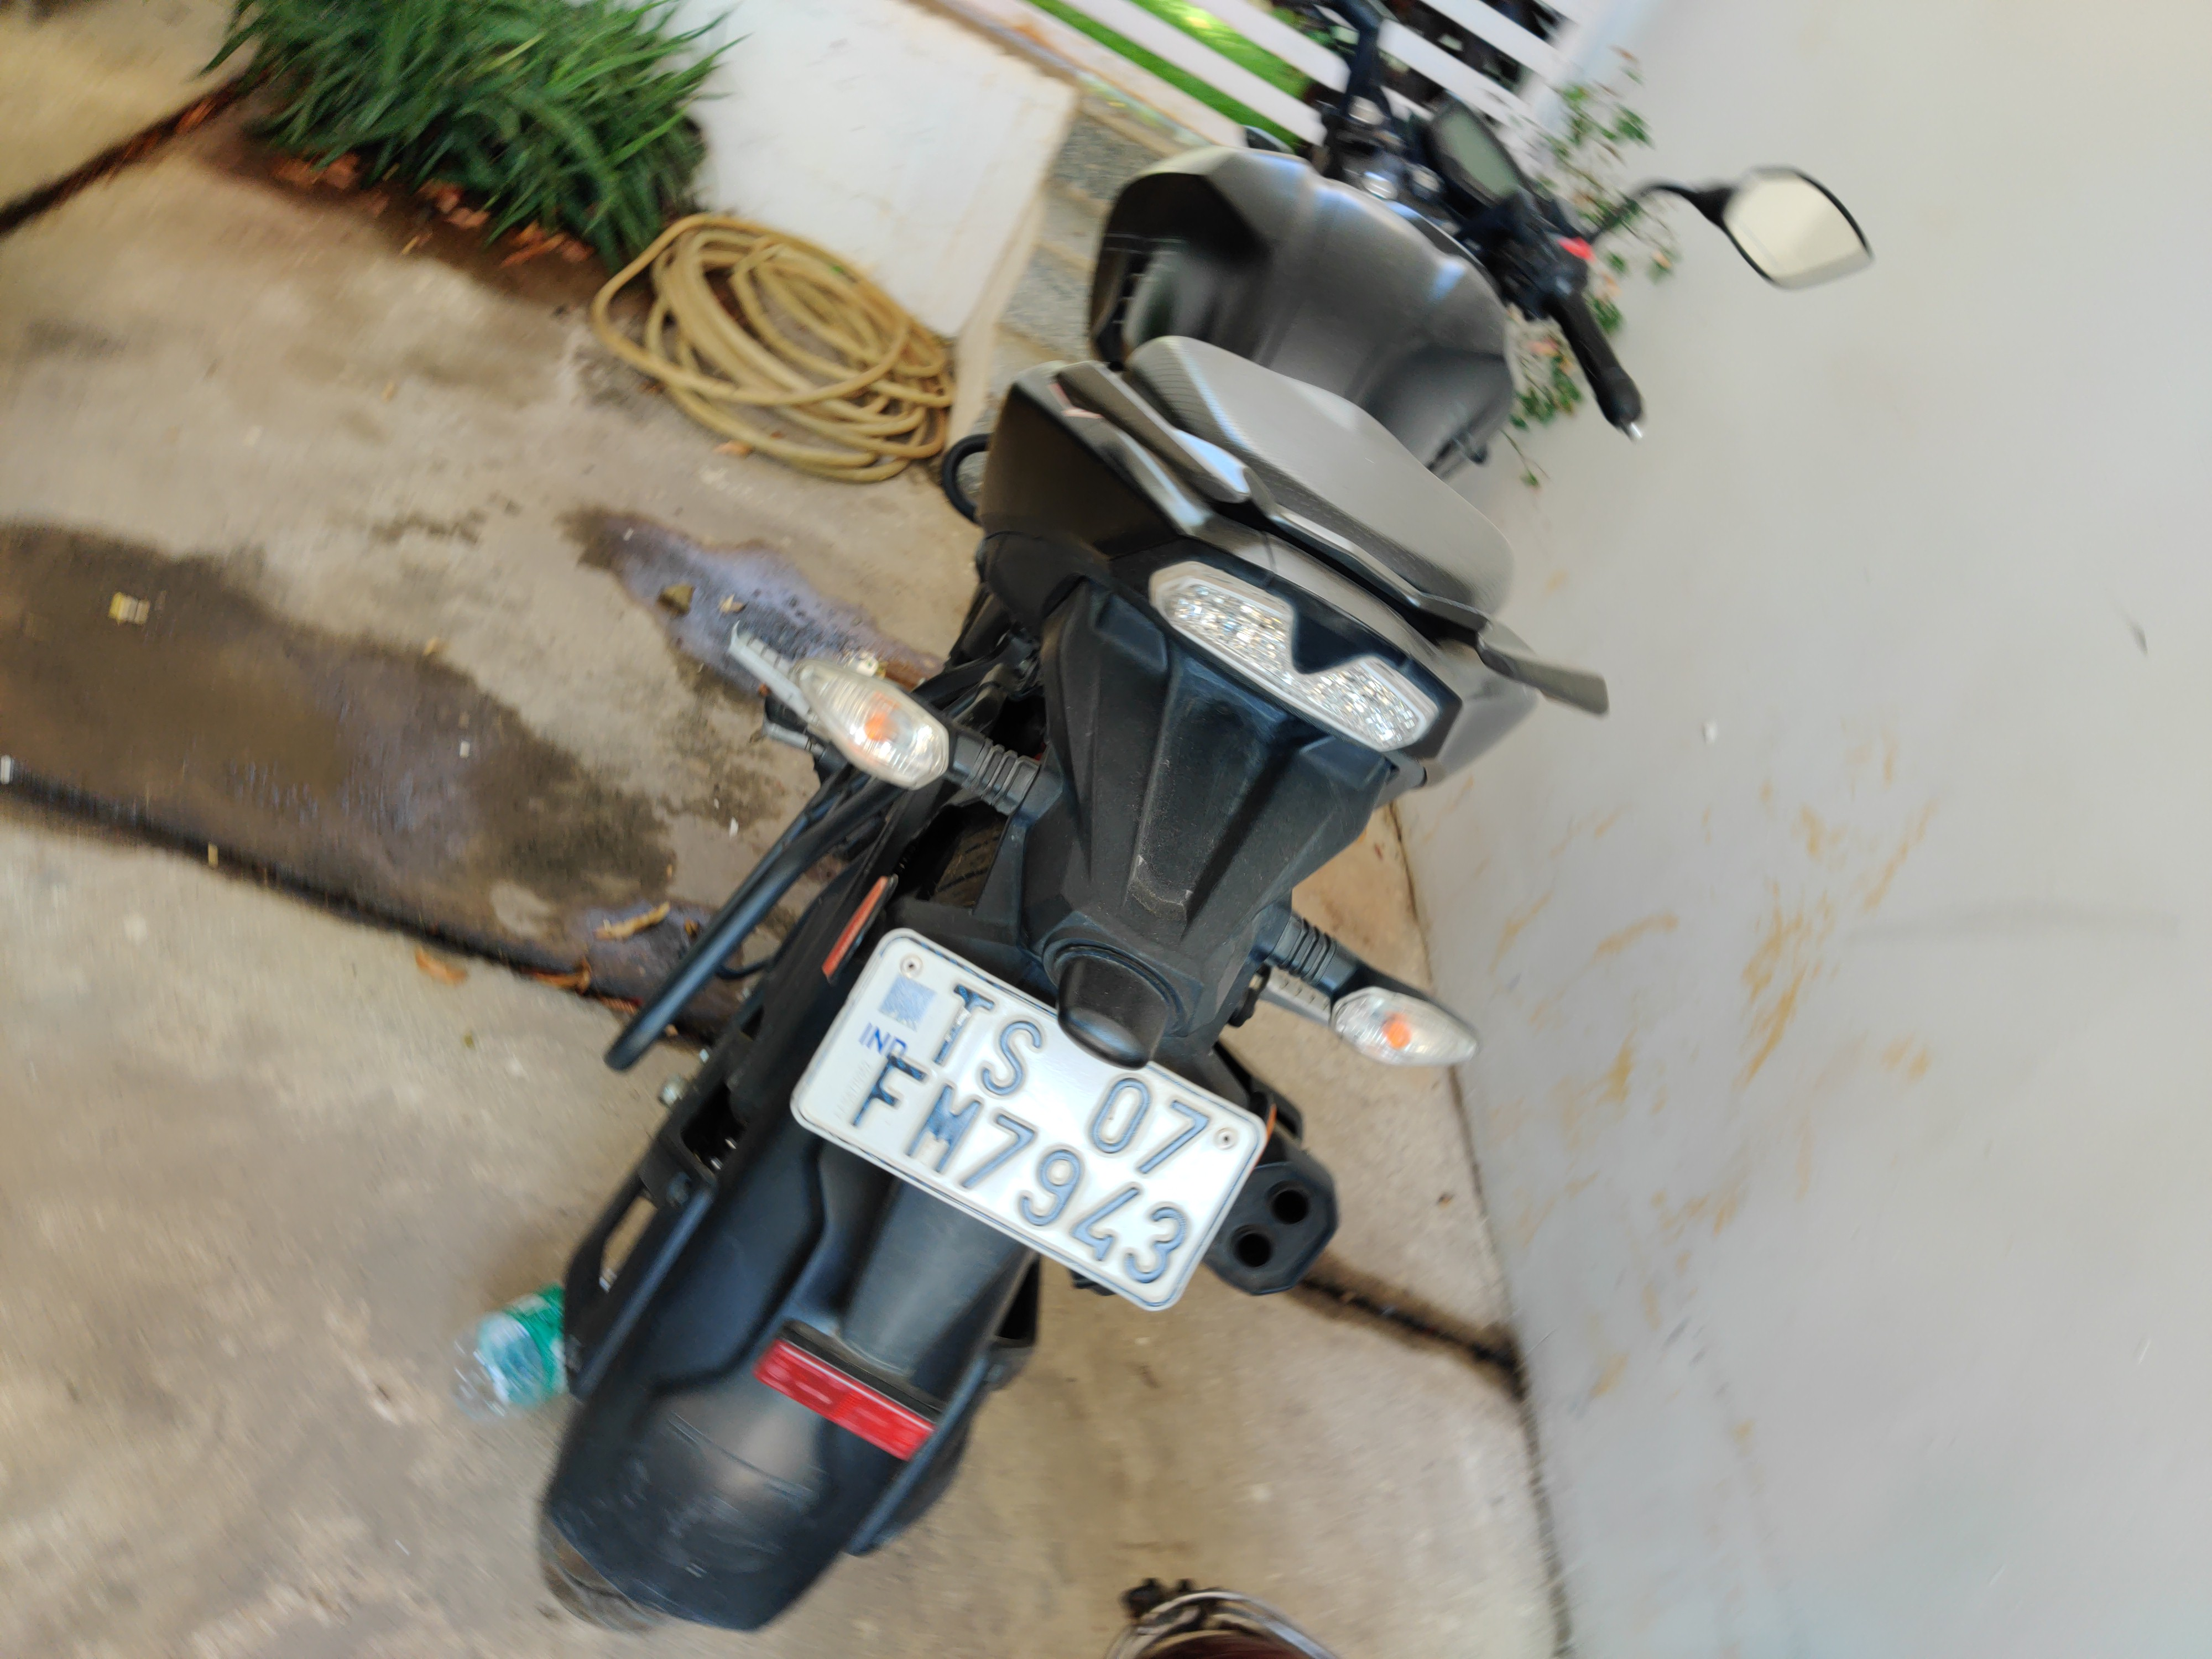plate: (770, 900, 1258, 1343)
